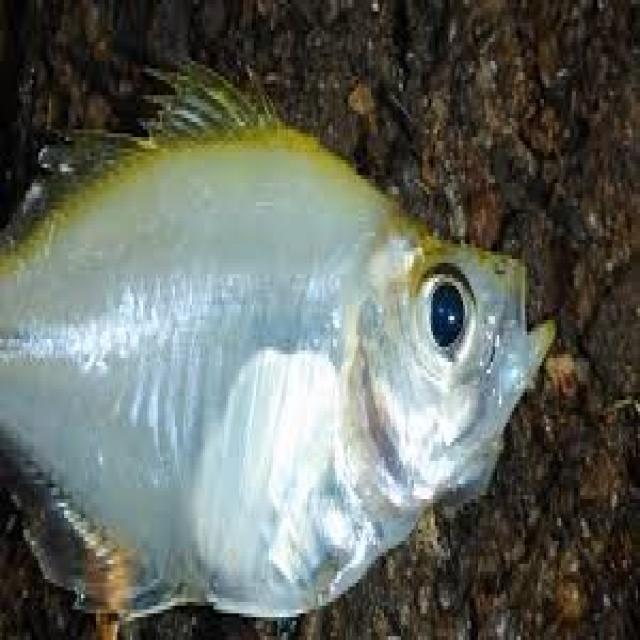Glass-Perchlet: (0, 38, 551, 640)
